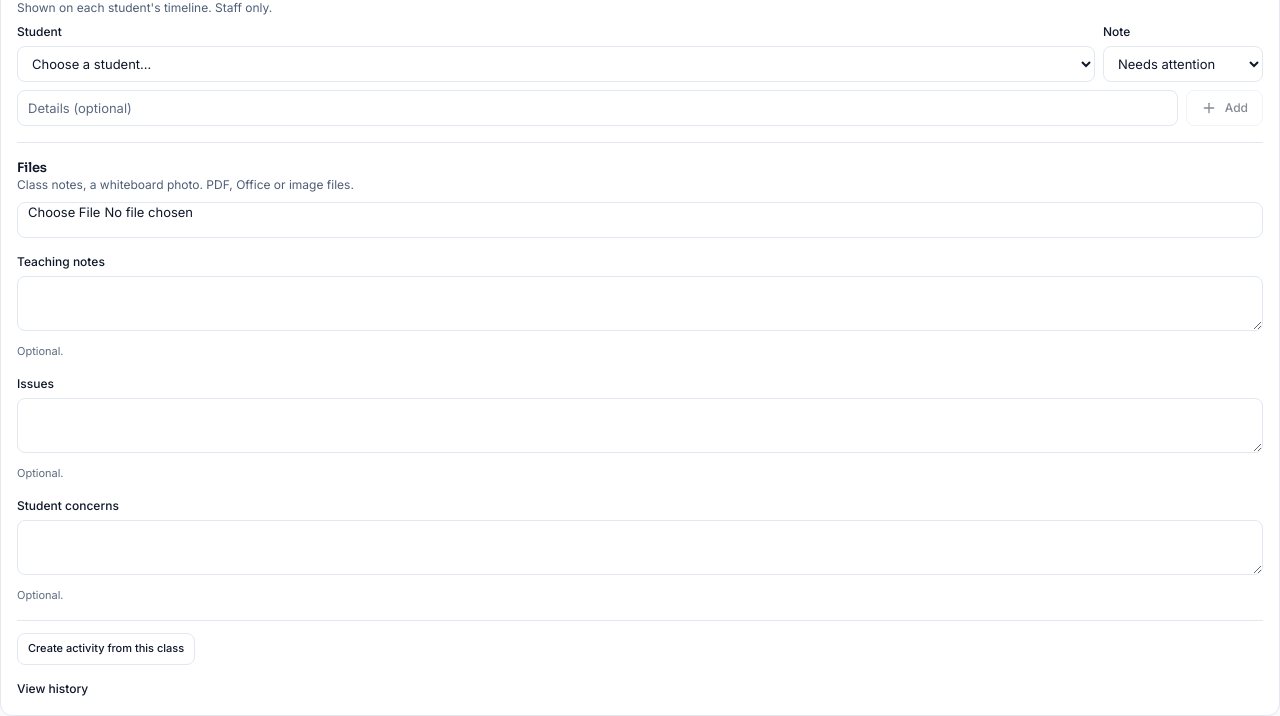
it: DsrPanel — follow-up (create activity, history) › renders an empty history state cleanly
(page scrolled)
Click the button "View history" at (53, 689), box 17,681 -> 88,697
(page scrolled)
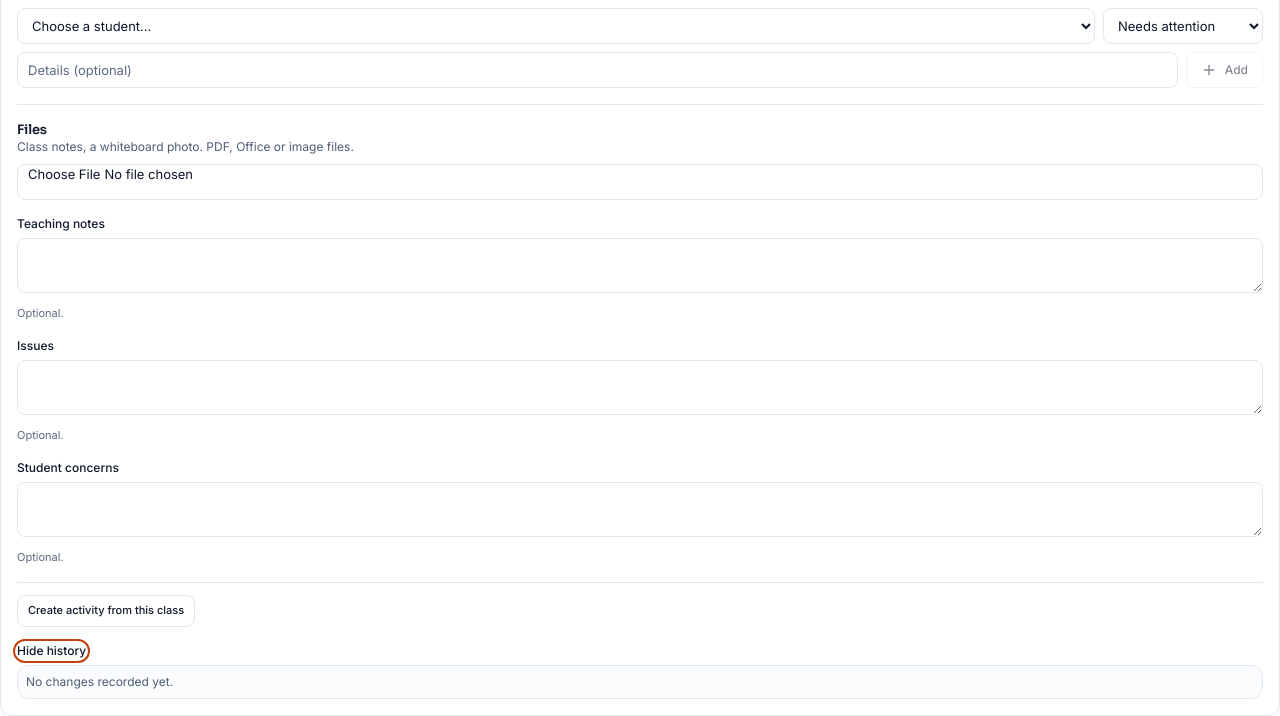
Check: the text "No changes recorded yet." is shown, box 26,674 -> 173,689
